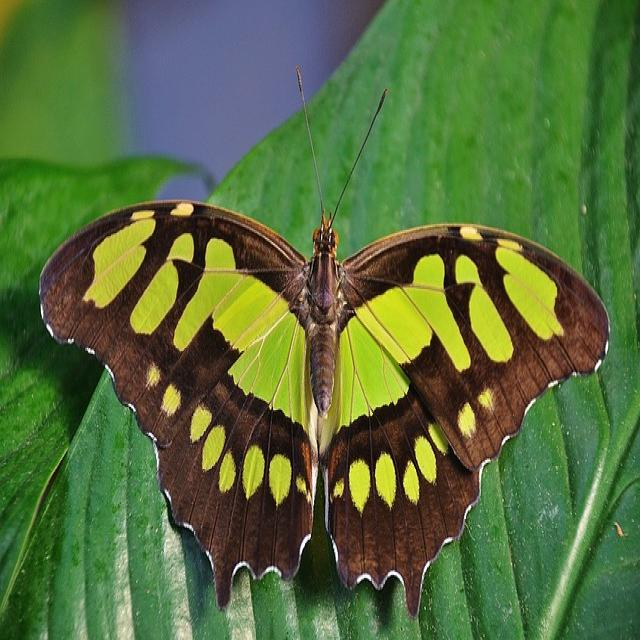butterfly: (40, 202, 609, 614), (321, 202, 325, 211)
